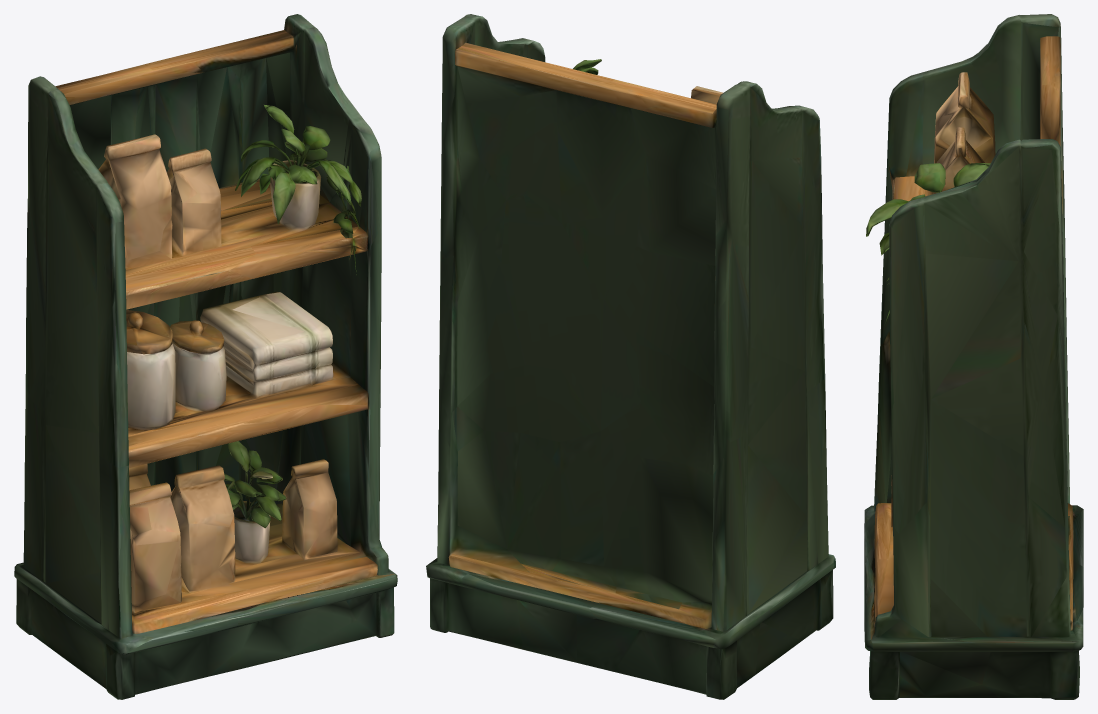
The model's file is cafe-storage-shelves.glb.
The picture shows the model from 3 angles, left to right: view 1: azimuth 30°, elevation 25°; view 2: azimuth 150°, elevation 25°; view 3: azimuth 270°, elevation 25°; orthographic projection. The views are drawn at different scales.
Parts seen in each view (by area): view 1: tripo_node_4942da49-7a3d-4c88-871e-e78ca1e0c49f; view 2: tripo_node_4942da49-7a3d-4c88-871e-e78ca1e0c49f; view 3: tripo_node_4942da49-7a3d-4c88-871e-e78ca1e0c49f.
Boxes of the visible parts, bbox=[...] form: tripo_node_4942da49-7a3d-4c88-871e-e78ca1e0c49f: bbox=[14, 14, 397, 699]; tripo_node_4942da49-7a3d-4c88-871e-e78ca1e0c49f: bbox=[426, 14, 835, 699]; tripo_node_4942da49-7a3d-4c88-871e-e78ca1e0c49f: bbox=[864, 14, 1083, 699].
Size of the model in its own units: 0.85 by 1.6 by 0.5733.
1 material, 1 textured.
